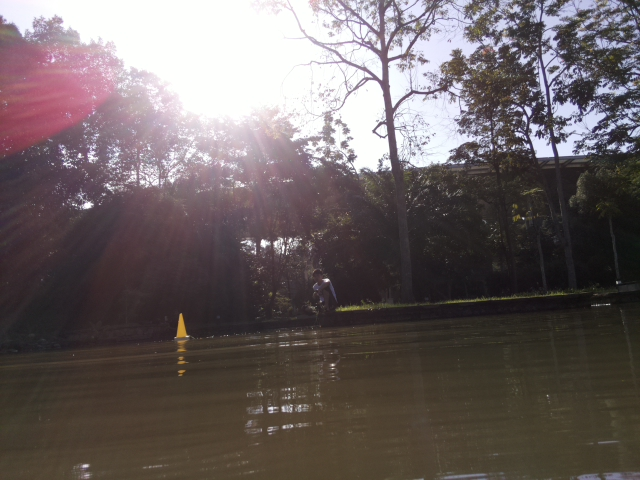checkpoint: (173, 311, 189, 340)
